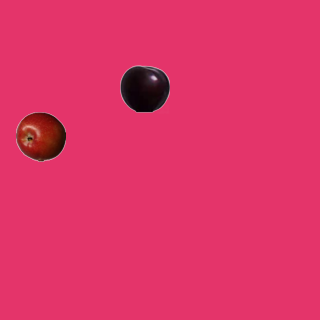Apple Braeburn: (15, 111, 65, 161)
Cherry Wax Black: (119, 63, 169, 113)
